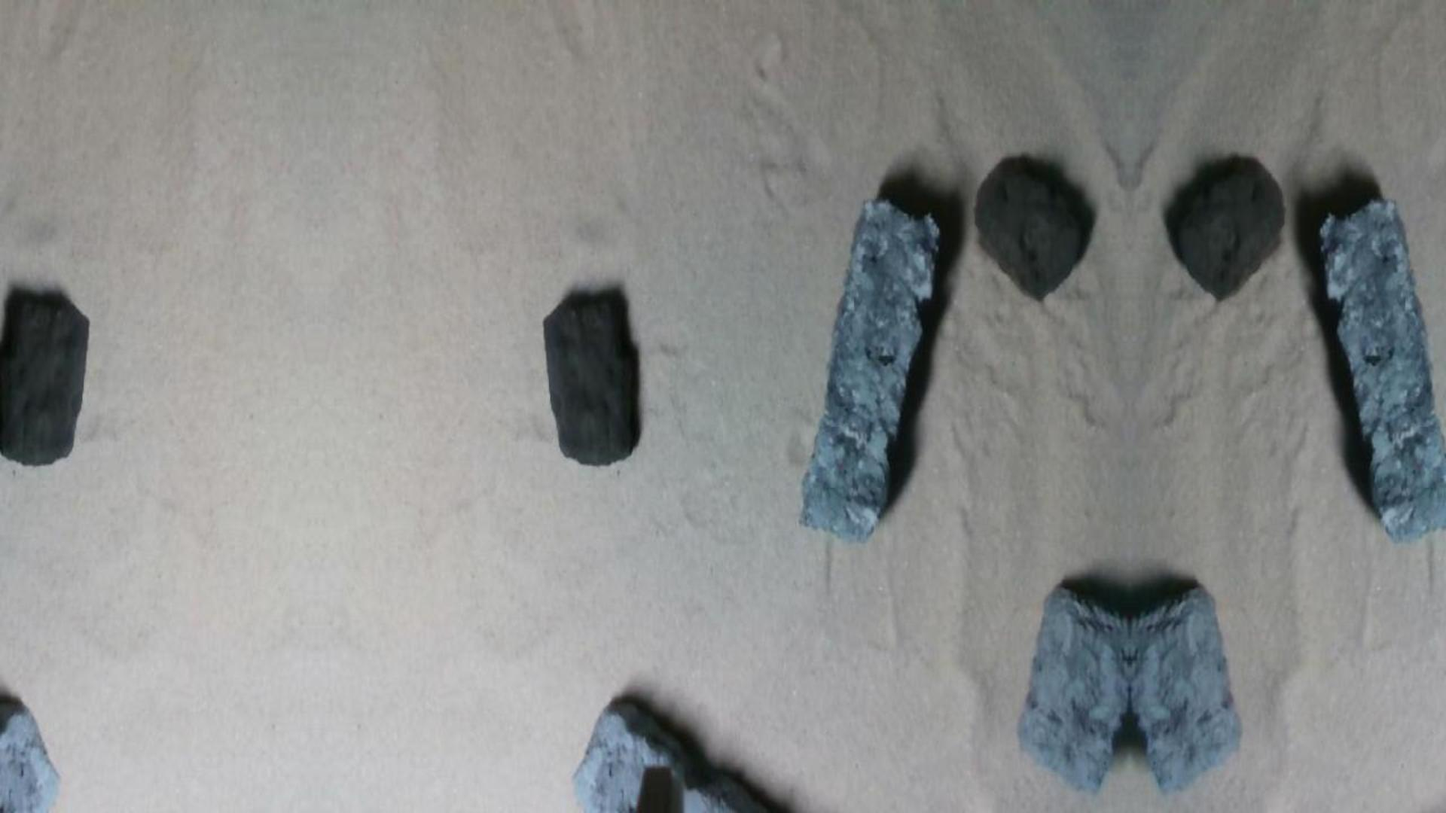rock: (801, 199, 939, 540), (1321, 199, 1445, 541), (574, 694, 790, 812), (1019, 586, 1127, 790), (1131, 587, 1239, 790), (975, 154, 1094, 299), (543, 287, 639, 464), (1165, 155, 1283, 299), (0, 288, 88, 465), (0, 693, 59, 812)
